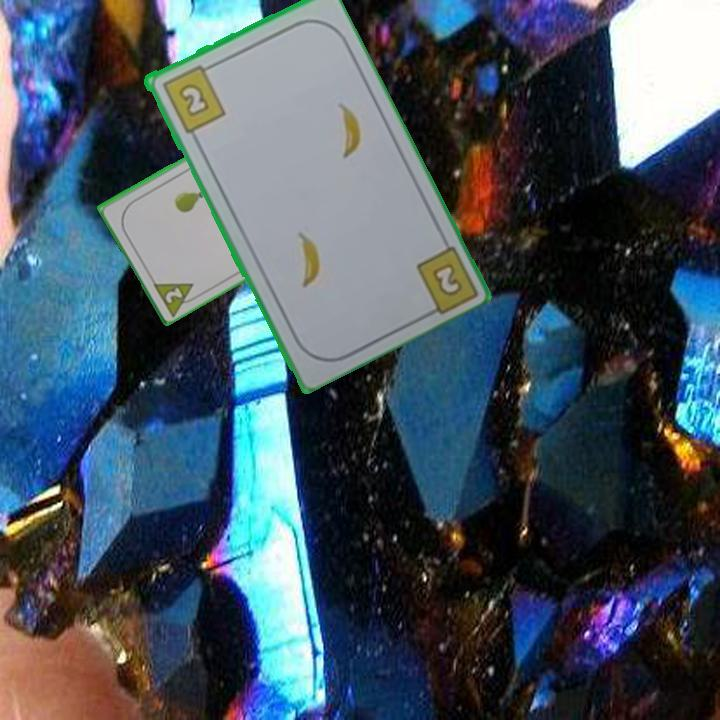2b: (158, 60, 228, 136), (432, 262, 462, 296)
2p: (149, 277, 203, 318)
